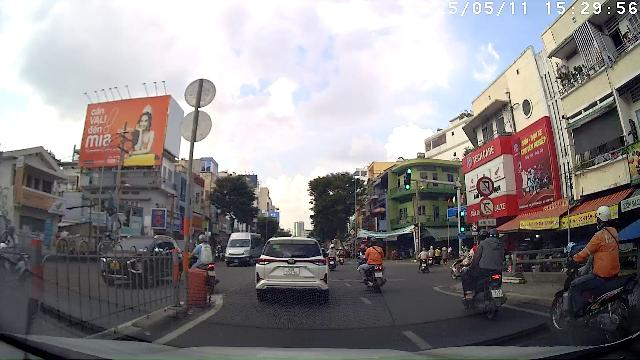103b-cam-oto-re-phai: (479, 197, 495, 217)
103c-cam-oto-re-trai: (476, 177, 494, 197)
